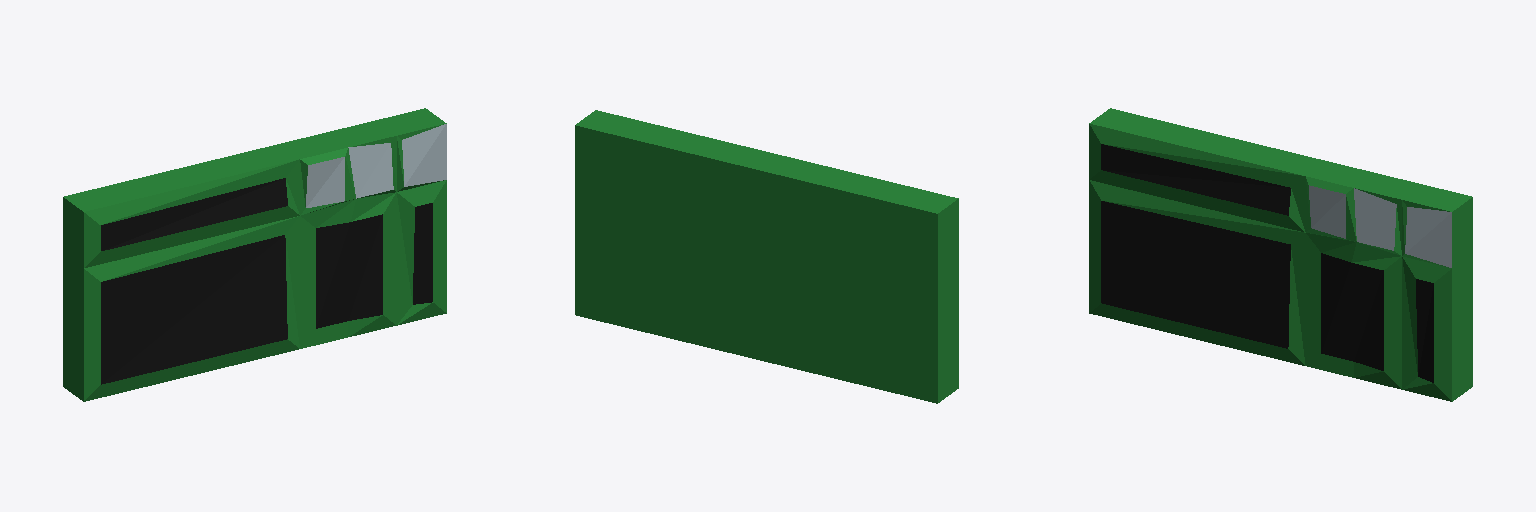
3 renders of one model, left to right at view 1: azimuth 30°, elevation 25°; view 2: azimuth 150°, elevation 25°; view 3: azimuth 330°, elevation 25°, orthographic.
Parts seen in each view (by area): view 1: circuit; view 2: circuit; view 3: circuit.
Boxes of the visible parts, box(x1,y1,x2,y2) form: circuit: box(63, 108, 446, 401); circuit: box(575, 110, 958, 403); circuit: box(1089, 108, 1472, 401).
Bounding box in the file's own units: 0.02 × 0.01 × 0.0022.
1 materials, 1 textured.